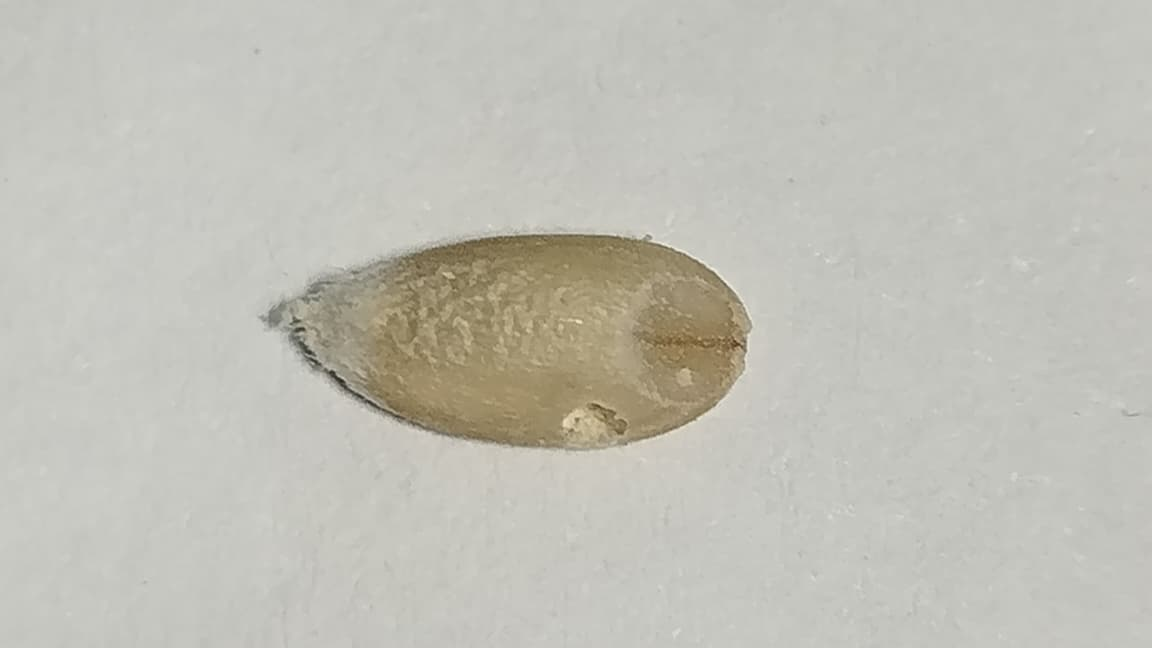damage: (280, 235, 749, 450)
insectdamage: (554, 246, 745, 449)
